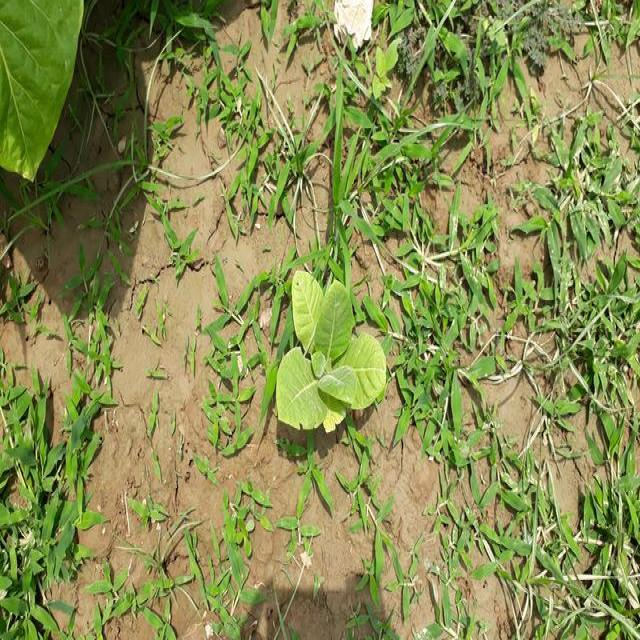crop: (274, 249, 402, 452)
